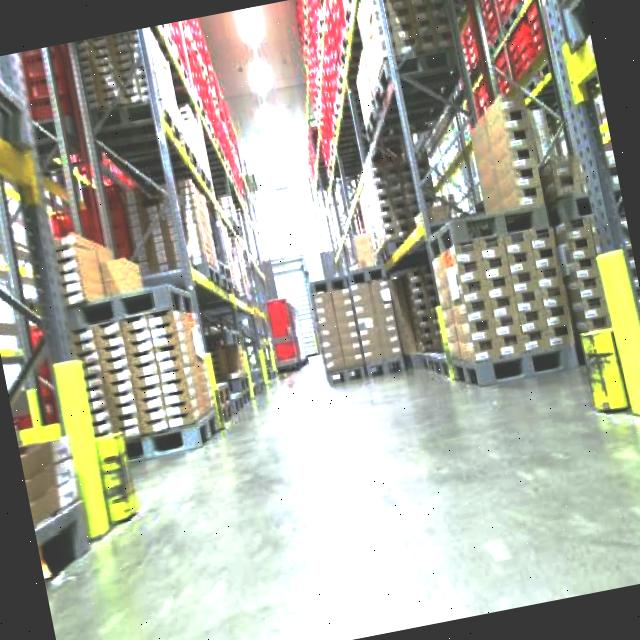ground: (12, 289, 640, 640)
pallet: (0, 13, 343, 640), (263, 0, 640, 481), (14, 14, 299, 469), (0, 52, 135, 640), (421, 201, 580, 391), (66, 279, 223, 467), (562, 244, 640, 426), (16, 424, 97, 583), (307, 269, 406, 385), (261, 294, 309, 373)
